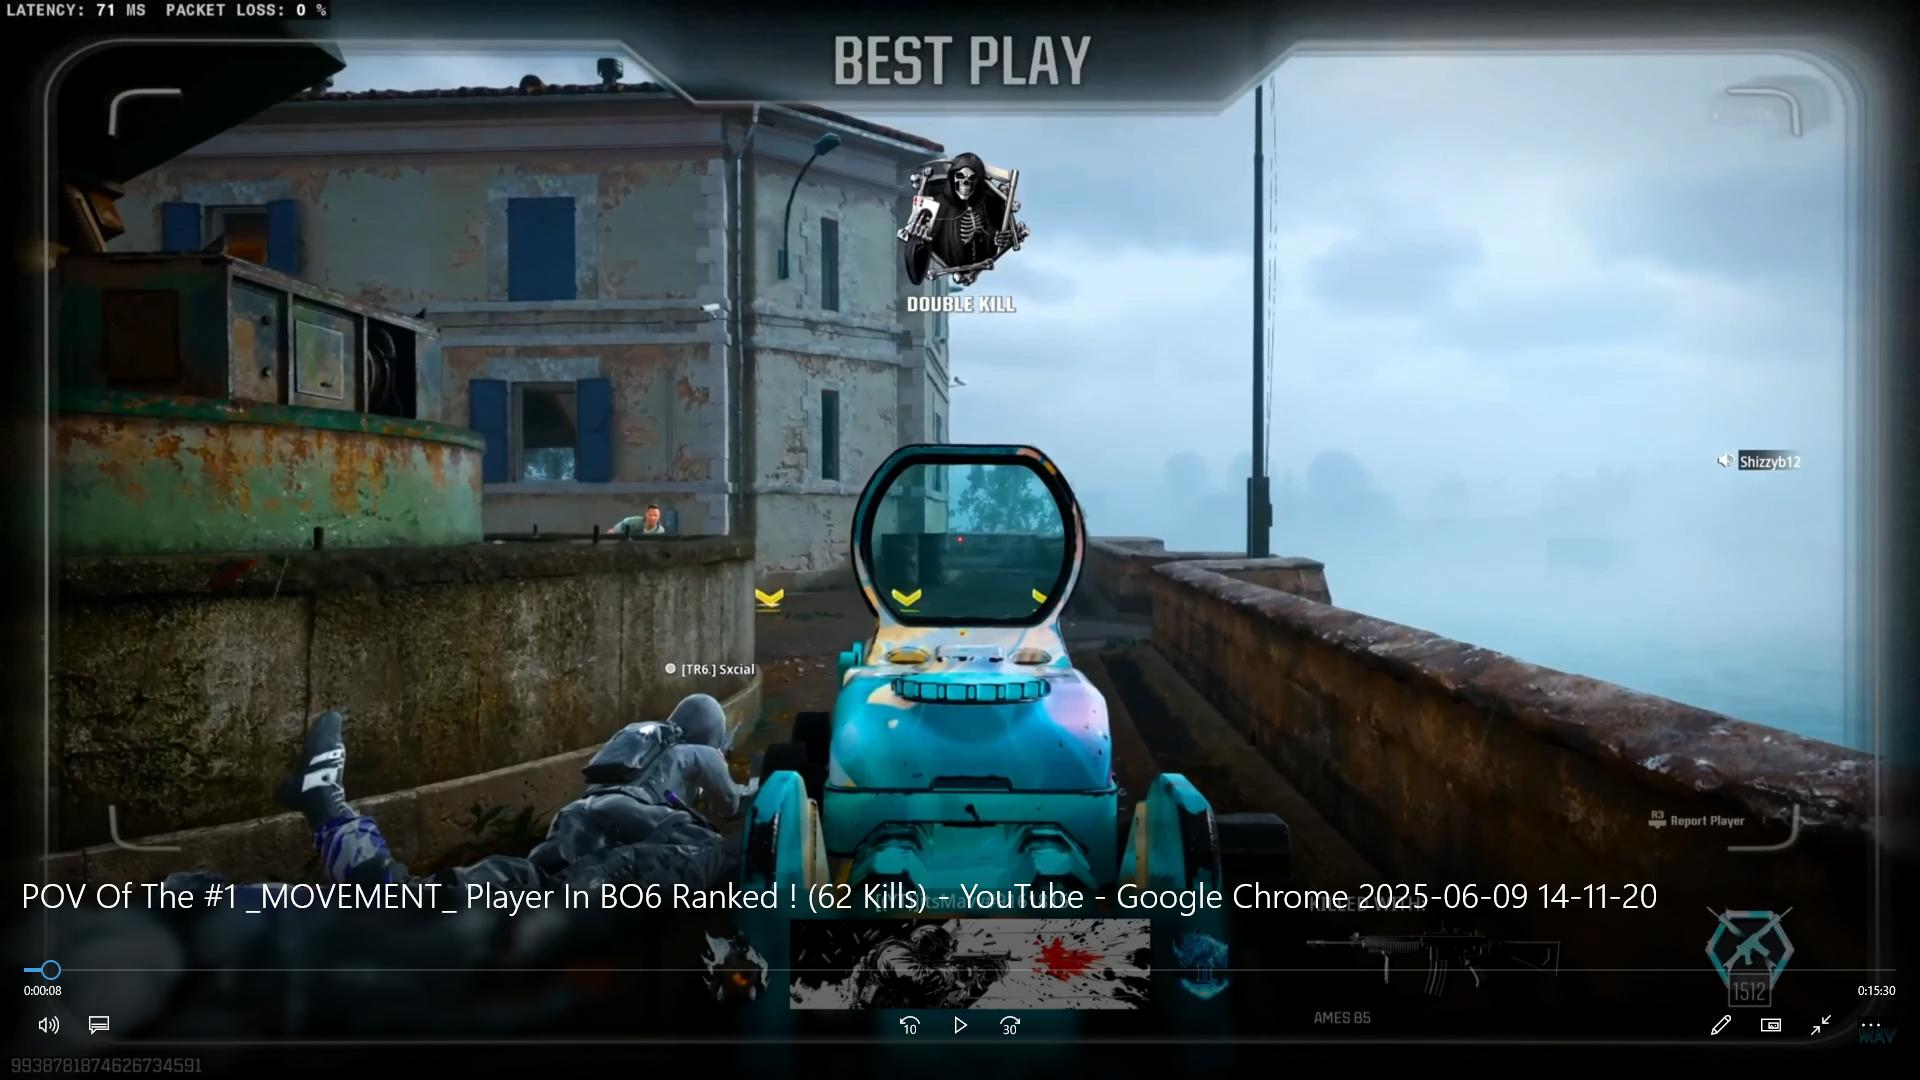Enemy: (612, 489, 679, 541)
